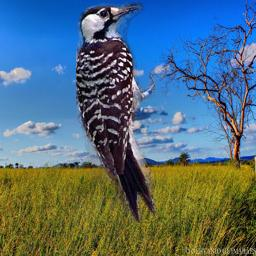Woodpecker: (76, 2, 155, 223)
